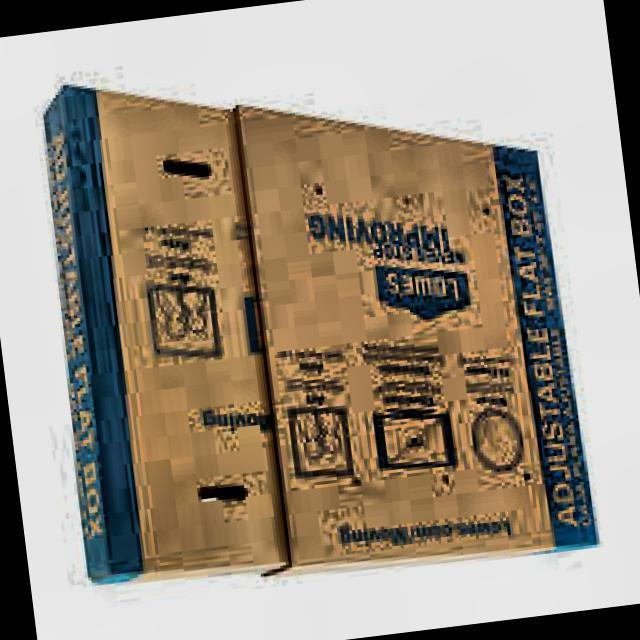cardboard: (209, 67, 600, 590), (28, 65, 295, 598)
